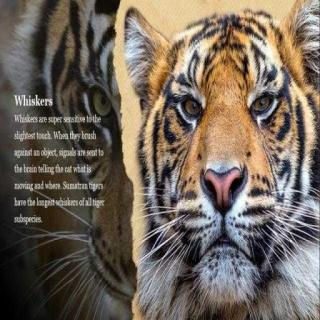Tiger: (119, 2, 320, 304)
